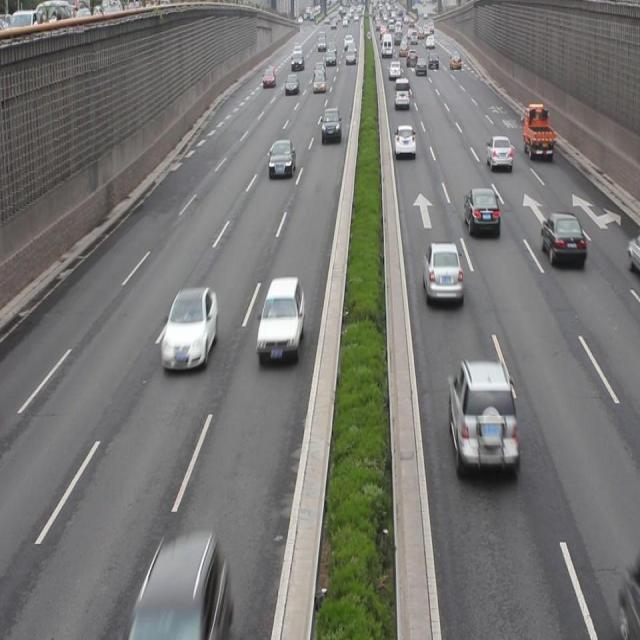bus: (521, 104, 555, 159)
car: (131, 537, 230, 640), (448, 359, 519, 481), (161, 292, 218, 370), (256, 279, 303, 362), (422, 241, 463, 304), (541, 212, 582, 267), (462, 188, 498, 232), (267, 140, 294, 178), (484, 133, 511, 170), (394, 126, 416, 162), (320, 107, 342, 143)
